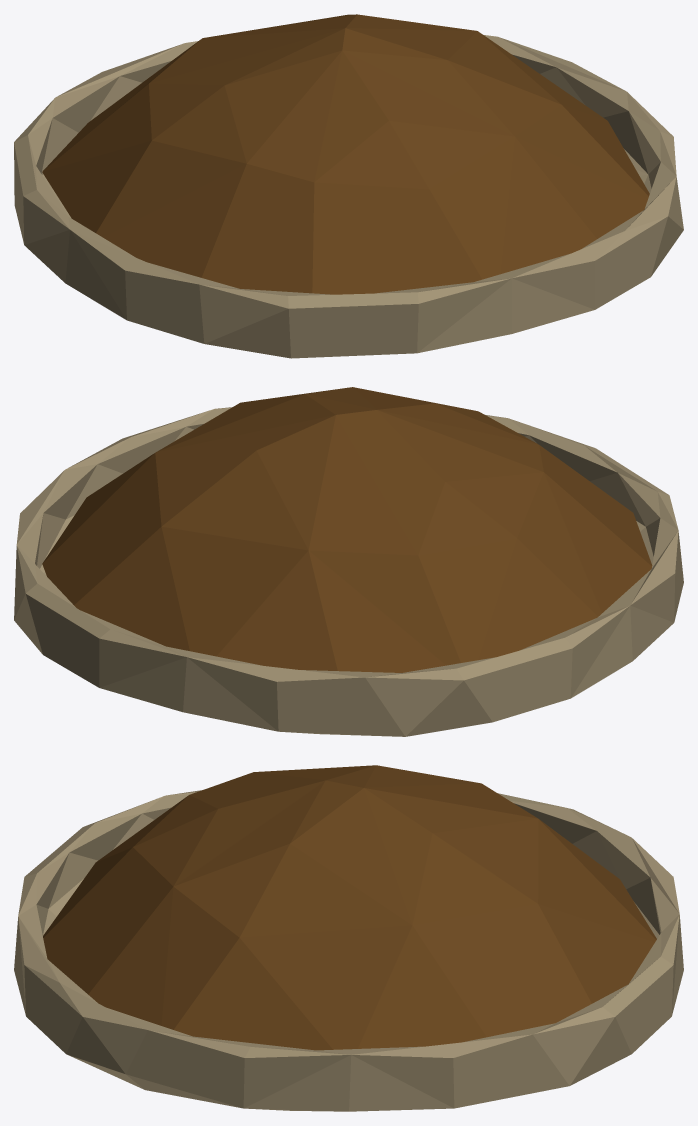
Rendered from big plate sumac.glb.
3 renders of one model, top to bottom at view 1: azimuth 30°, elevation 25°; view 2: azimuth 150°, elevation 25°; view 3: azimuth 270°, elevation 25°, orthographic. The views are drawn at different scales.
Visible parts, largest first — view 1: Cube.001, Cube; view 2: Cube.001, Cube; view 3: Cube.001, Cube.
Part boxes in pixels (left/top/right/bottom): Cube.001: left=42, top=14, right=649, bottom=294; Cube: left=14, top=35, right=683, bottom=358; Cube.001: left=42, top=387, right=652, bottom=672; Cube: left=14, top=407, right=683, bottom=736; Cube.001: left=43, top=765, right=656, bottom=1050; Cube: left=14, top=790, right=683, bottom=1111.
Bounding box in the file's own units: 0.4852 × 0.1674 × 0.4852.
